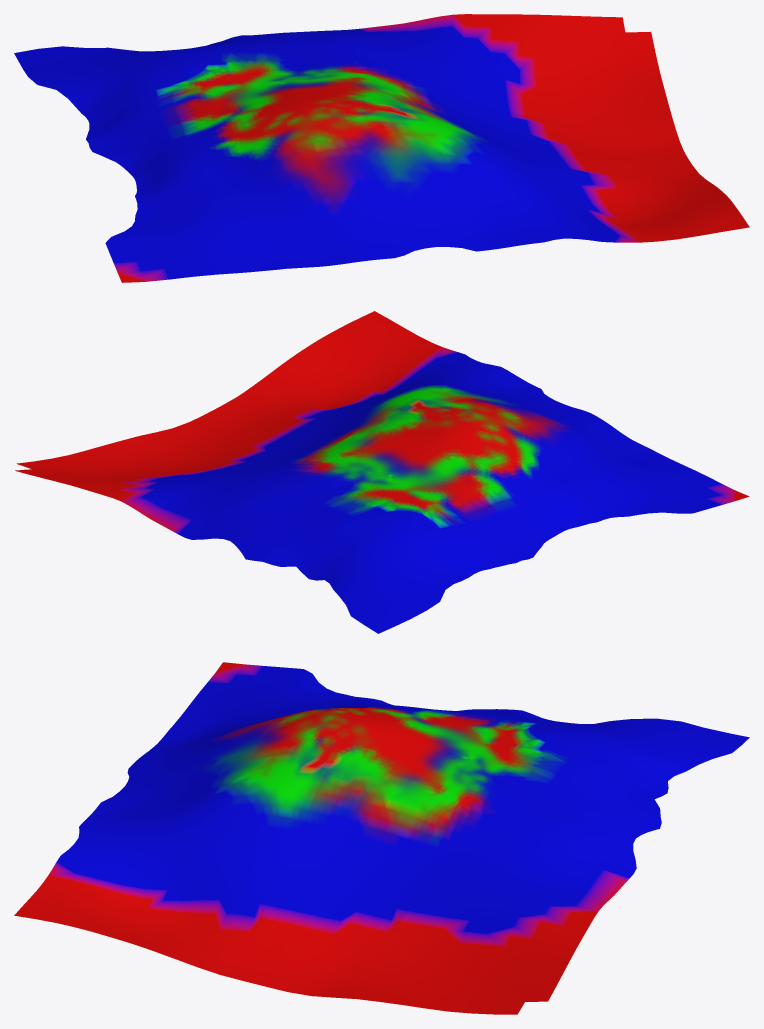
File: Basic_Landform.fbx
3 renders of one model, top to bottom at view 1: azimuth 30°, elevation 25°; view 2: azimuth 150°, elevation 25°; view 3: azimuth 270°, elevation 25°, orthographic. The views are drawn at different scales.
Visible parts, largest first — view 1: pPlane29; view 2: pPlane29; view 3: pPlane29.
Boxes of the visible parts, left/top/right/bottom form: pPlane29: left=14, top=14, right=749, bottom=282; pPlane29: left=15, top=311, right=749, bottom=633; pPlane29: left=14, top=662, right=749, bottom=1014.
Size of the model in its own units: 42.27 by 6.45 by 39.65.
